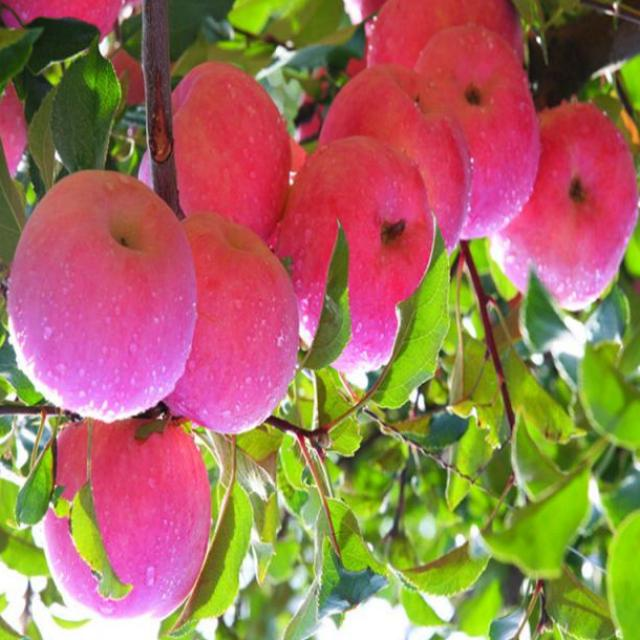apple: (261, 136, 463, 388), (12, 148, 194, 412), (134, 195, 302, 457), (40, 401, 224, 627), (489, 80, 640, 322), (142, 48, 294, 264), (399, 21, 548, 240), (352, 0, 530, 180)
